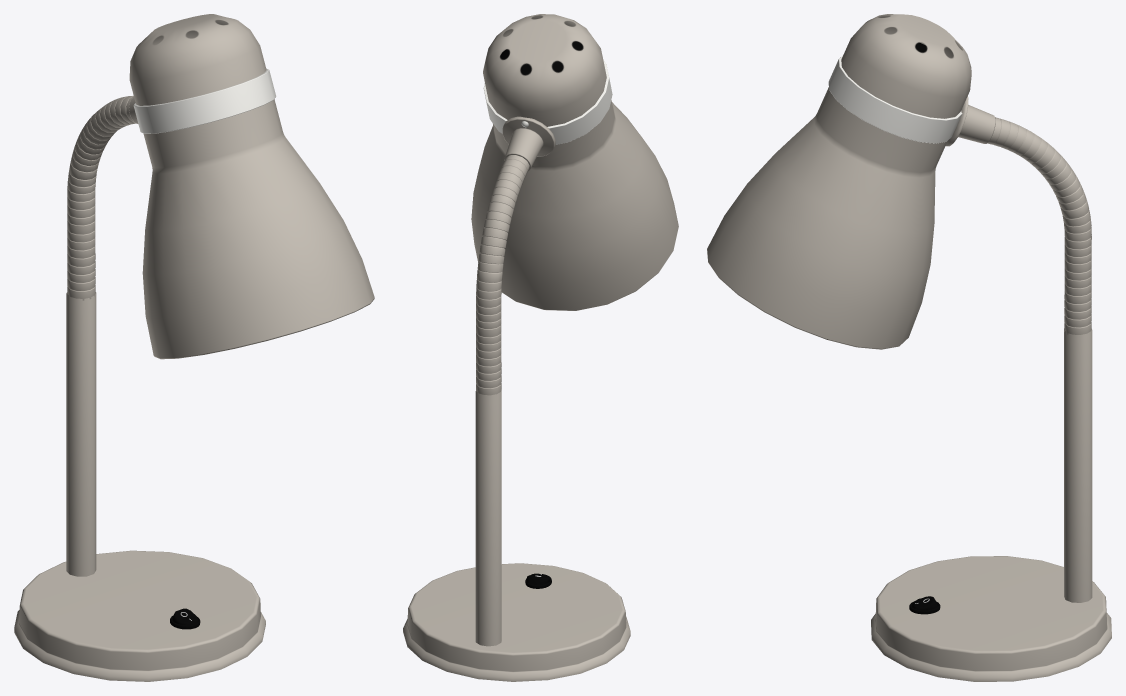
File: LAMPARAS.gltf
The picture shows the model from 3 angles, left to right: view 1: azimuth 30°, elevation 25°; view 2: azimuth 150°, elevation 25°; view 3: azimuth 270°, elevation 25°; orthographic projection. The views are drawn at different scales.
Parts seen in each view (by area): view 1: defaultMaterial.007; view 2: defaultMaterial.007; view 3: defaultMaterial.007.
Boxes of the visible parts, x1,y1,x2,y2 form: defaultMaterial.007: (14, 14, 374, 681); defaultMaterial.007: (403, 14, 678, 681); defaultMaterial.007: (707, 14, 1111, 681).
Bounding box in the file's own units: 1.84 × 4.8 × 2.85.
11 materials, 11 textured.
